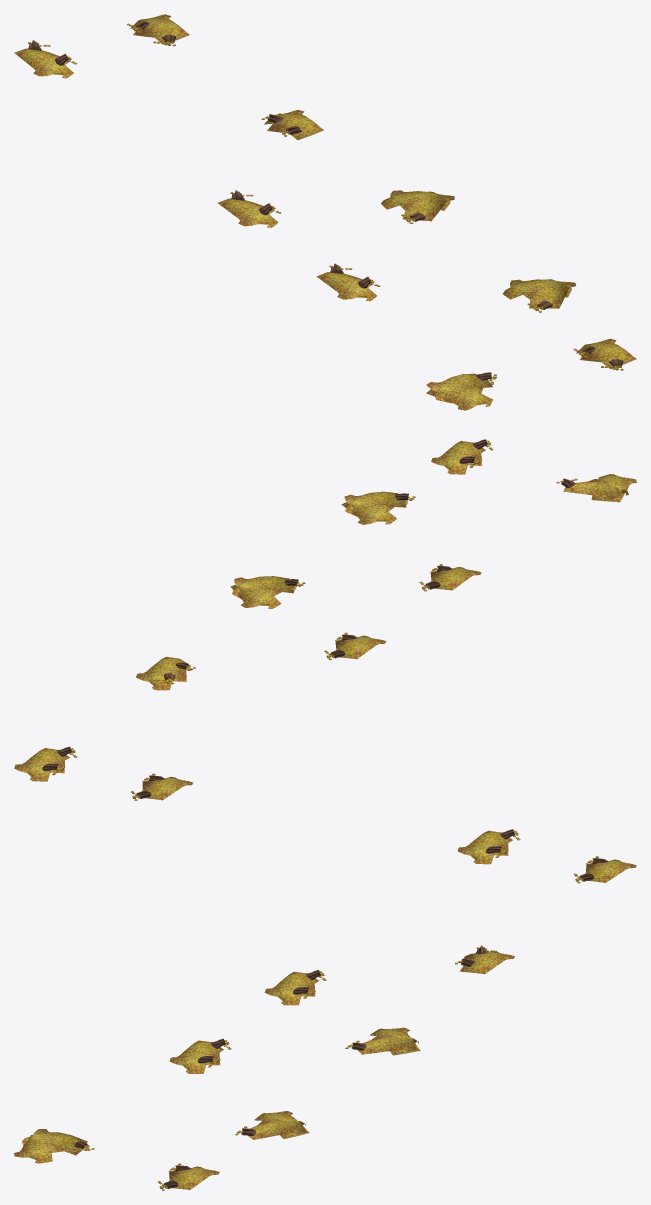
Rendered from wujian34.fbx.
3 renders of one model, top to bottom at view 1: azimuth 30°, elevation 25°; view 2: azimuth 150°, elevation 25°; view 3: azimuth 330°, elevation 25°, orthographic. The views are drawn at different scales.
Visible parts, largest first — view 1: wujian34; view 2: wujian34; view 3: wujian34.
Boxes of the visible parts, x1=… form: wujian34: x1=14, y1=14, x2=636, y2=410; wujian34: x1=14, y1=439, x2=636, y2=800; wujian34: x1=14, y1=829, x2=636, y2=1190.
Size of the model in its own units: 1947 by 104 by 7397.
1 material, 1 textured.
